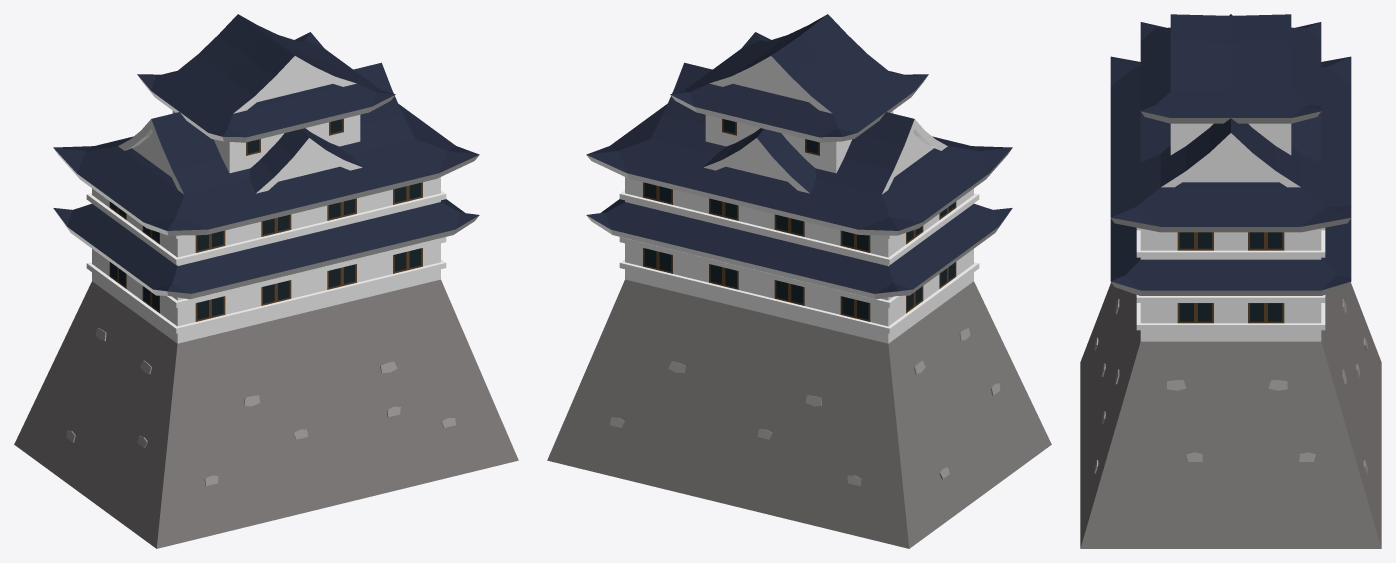
The model's file is tower-japan-medium.glb.
3 views of the same model, side by side, from view 1: azimuth 30°, elevation 25°; view 2: azimuth 150°, elevation 25°; view 3: azimuth 270°, elevation 25° (orthographic). The views are drawn at different scales.
Parts seen in each view (by area): view 1: tower-japan_medium; view 2: tower-japan_medium; view 3: tower-japan_medium.
Part boxes in pixels (box(x1,y1,x2,y2)): tower-japan_medium: box(14, 14, 518, 548); tower-japan_medium: box(547, 14, 1051, 548); tower-japan_medium: box(1080, 14, 1381, 548).
Bounding box in the file's own units: 22 × 24.25 × 15.
Materials: 1 (1 with a texture image).
